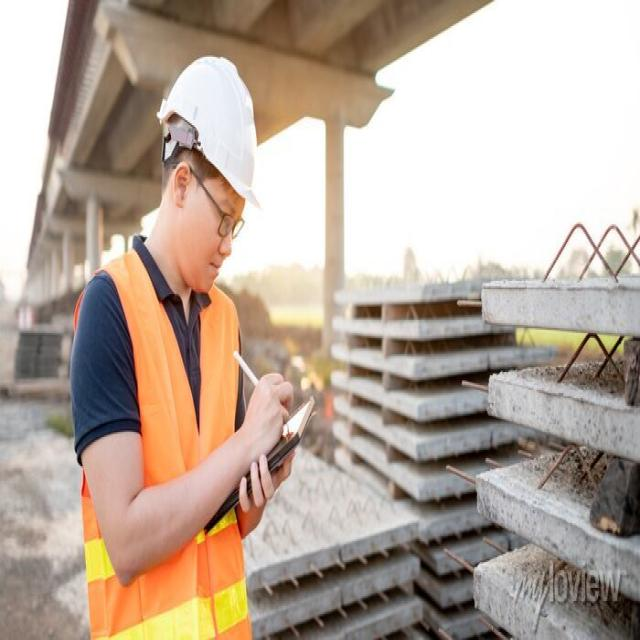goggles: (188, 193, 245, 243)
helmet: (166, 59, 264, 213)
vest: (98, 288, 248, 636)
